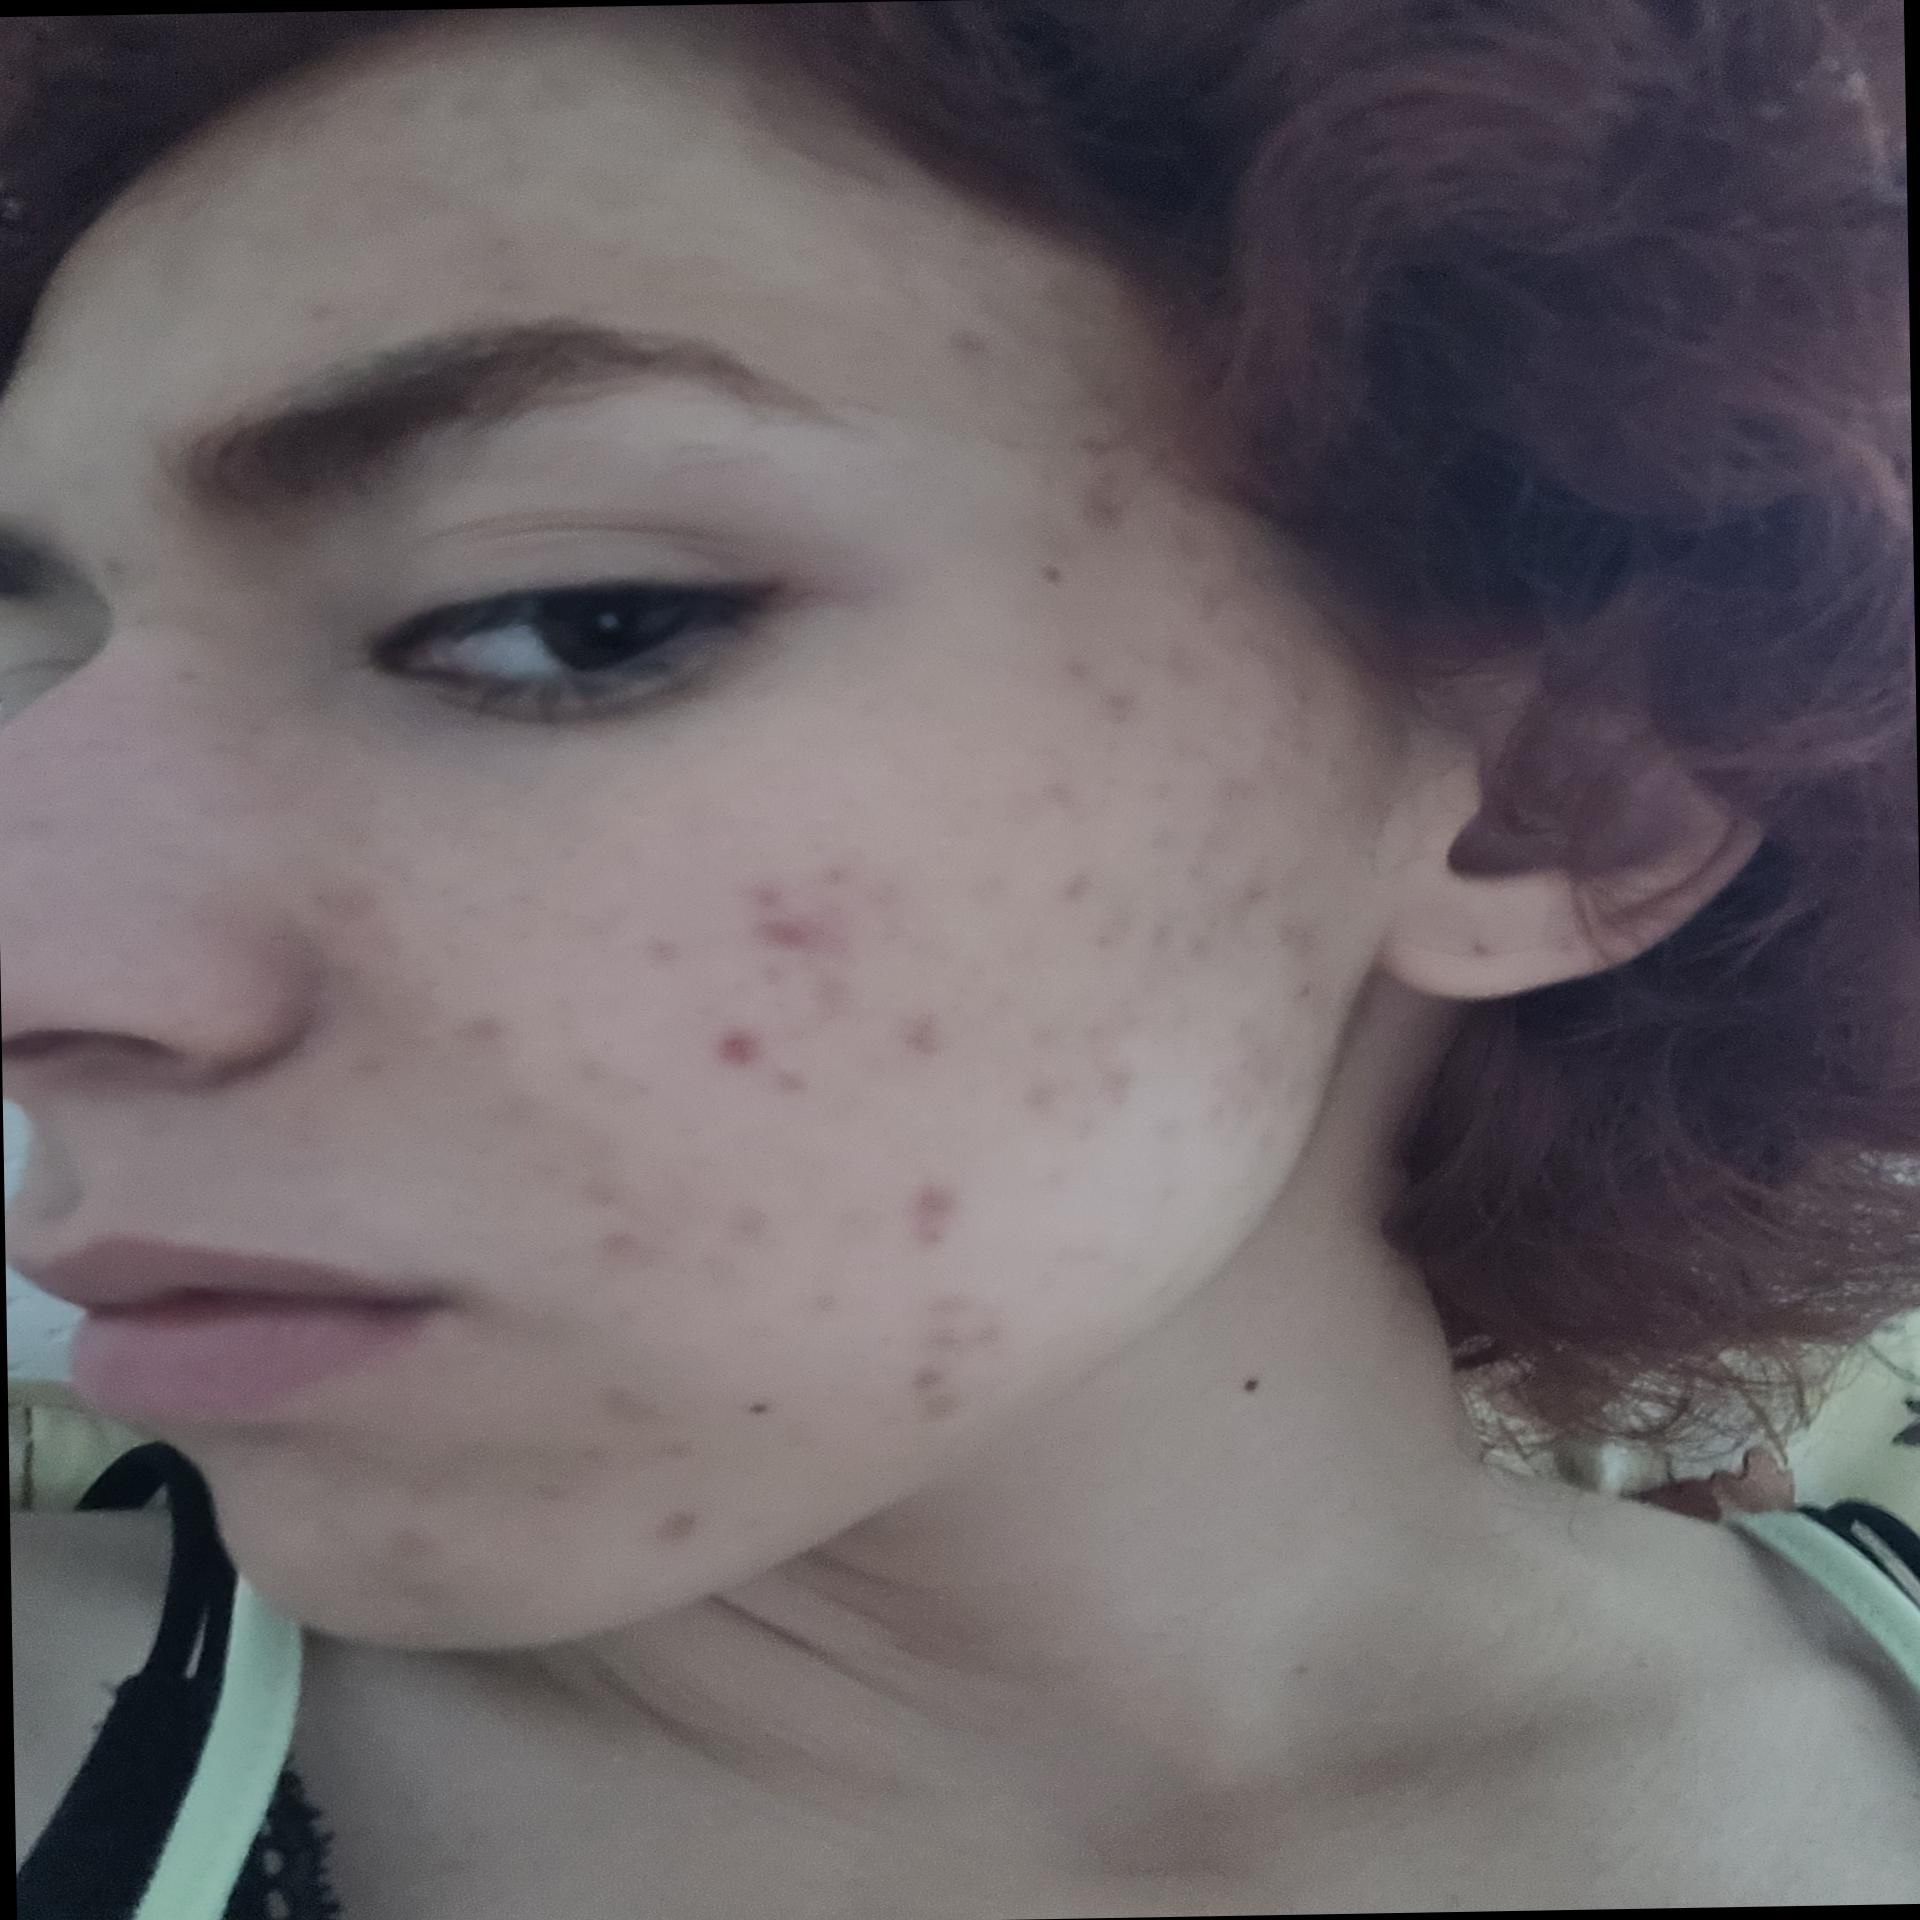Acne: (905, 1289, 1015, 1356), (1058, 652, 1148, 726), (747, 909, 847, 971), (587, 1175, 645, 1268), (904, 1176, 967, 1261), (1227, 1009, 1287, 1094), (823, 856, 918, 909), (904, 1359, 964, 1442), (1148, 913, 1224, 974), (591, 1371, 661, 1431), (452, 1002, 526, 1057), (1269, 677, 1315, 763), (1094, 1060, 1155, 1124), (939, 318, 1000, 376), (703, 1022, 768, 1073), (895, 1006, 951, 1064), (645, 1502, 710, 1549), (1088, 904, 1143, 958), (716, 1196, 772, 1245), (1157, 635, 1206, 691), (1276, 916, 1329, 965), (382, 1523, 452, 1558), (1222, 867, 1271, 916), (1076, 485, 1136, 526), (1018, 1076, 1074, 1118), (1004, 1018, 1058, 1057), (805, 1275, 855, 1317), (738, 879, 791, 918), (768, 1064, 816, 1106), (656, 1428, 714, 1459), (561, 1057, 614, 1088), (496, 1094, 542, 1129), (1032, 772, 1074, 805), (1060, 867, 1094, 907), (1190, 582, 1224, 619), (640, 932, 675, 962)
